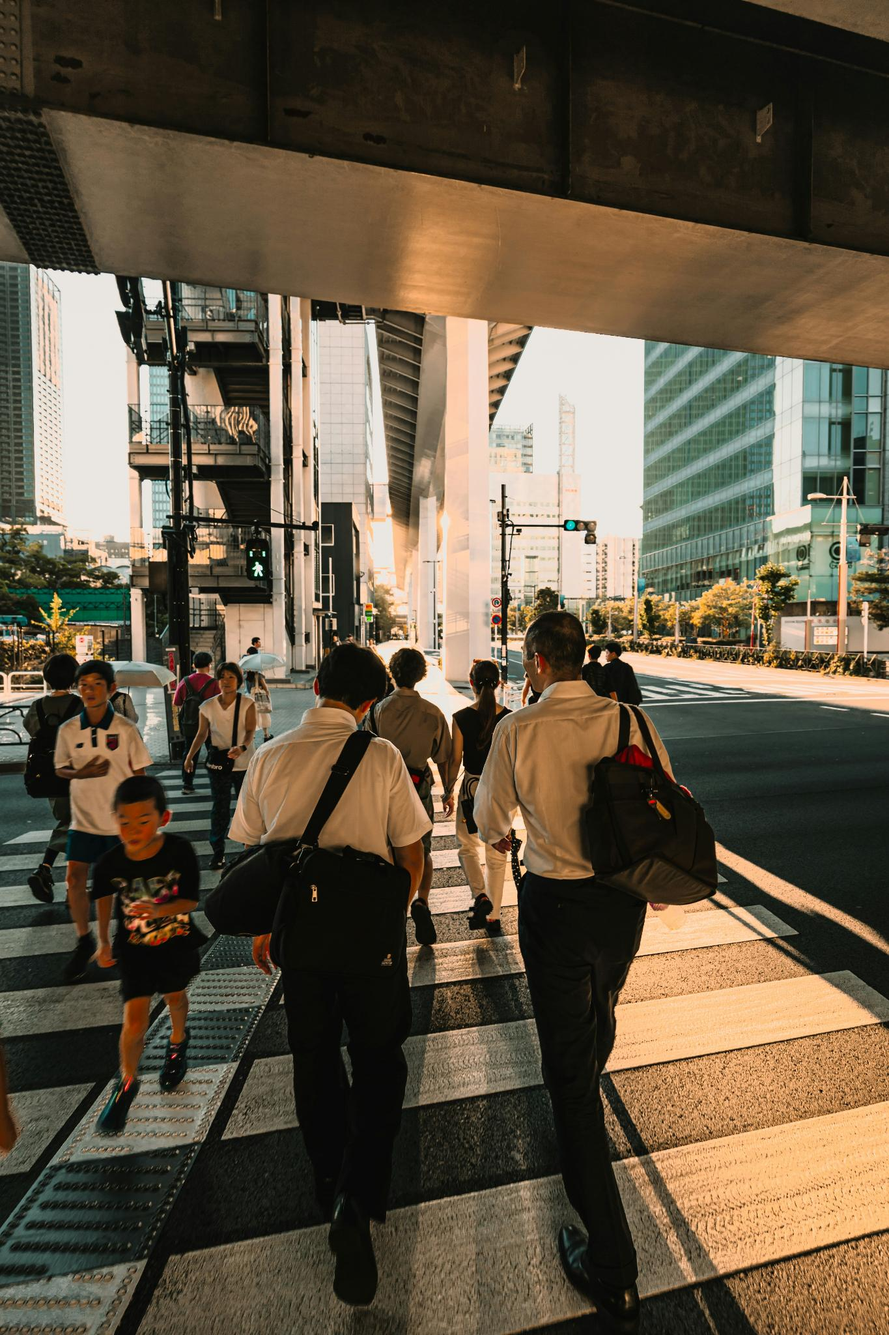pedestrian: (233, 644, 442, 1315), (479, 600, 671, 1317), (96, 764, 209, 1127), (56, 654, 153, 977), (372, 646, 450, 944), (181, 662, 256, 875), (23, 651, 84, 904), (452, 654, 507, 923), (373, 649, 449, 798), (174, 652, 220, 755), (584, 638, 647, 708), (247, 668, 274, 748), (240, 636, 264, 700)
